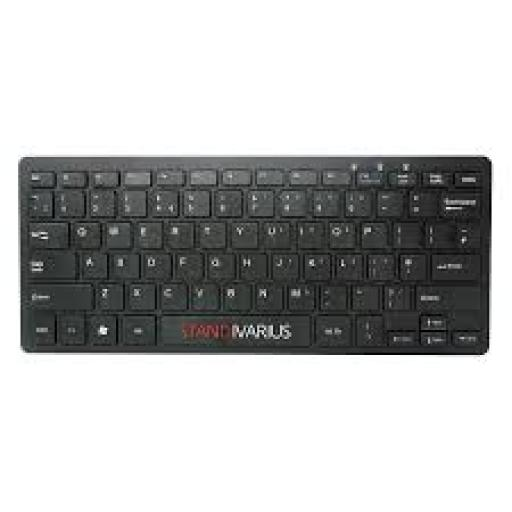KEYBOARD-2: (16, 155, 492, 355)
